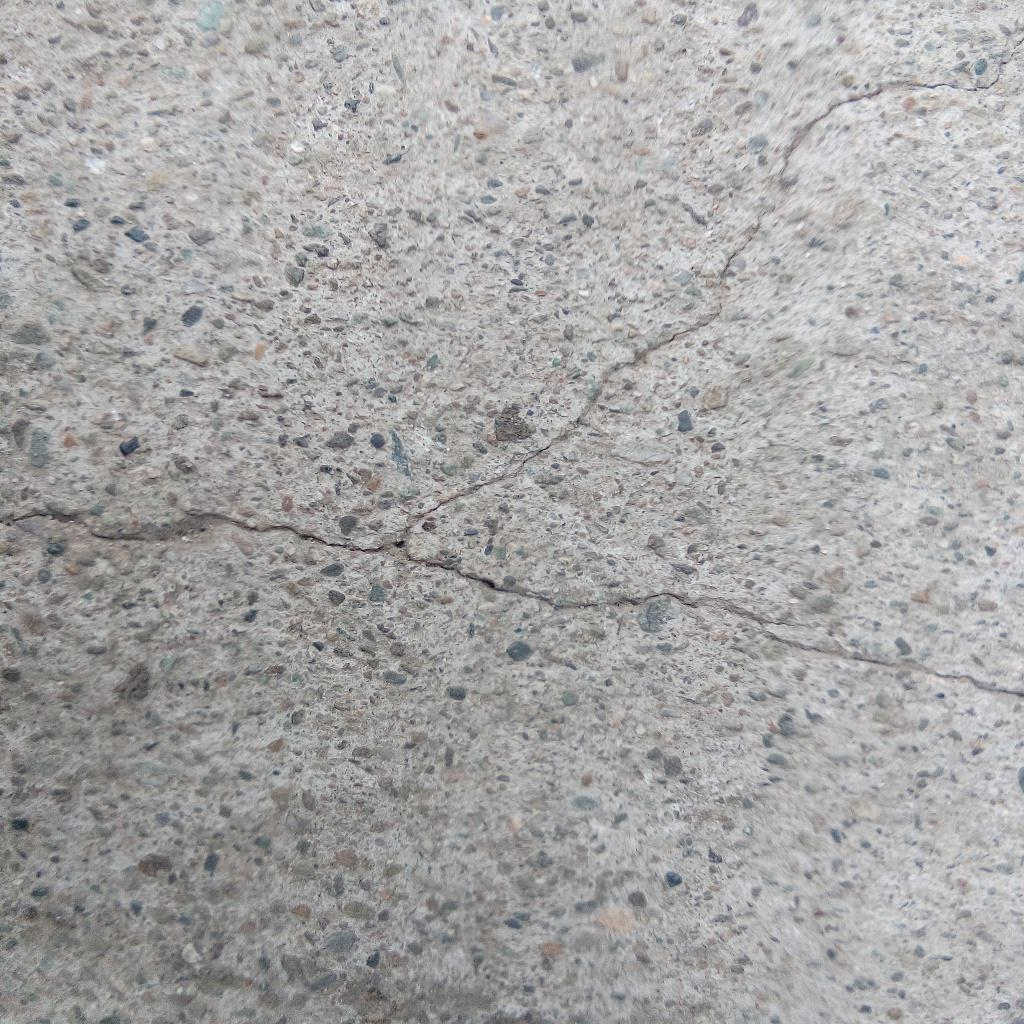Crack: (403, 35, 1024, 535), (404, 555, 1024, 697), (1, 507, 402, 554)
